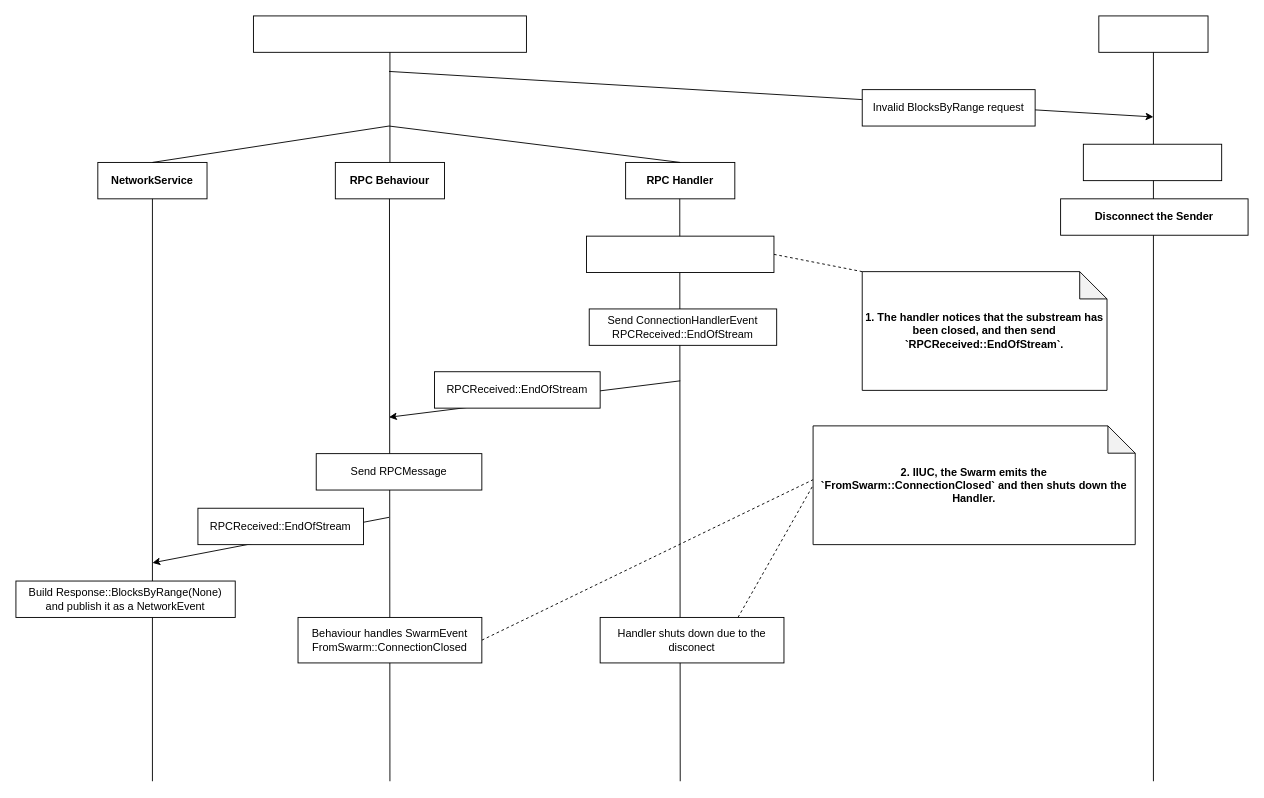
The diagram is 1264 pixels wide and 798 high, and some of its shapes have lost their labels. Each missing label, with the box of its shape:
Bans the Sender: (1082, 143, 1222, 181)
Handler polls the substream and notices that it has been closed.: (586, 235, 774, 273)
Receiver: (1098, 15, 1208, 52)
Sender: (253, 15, 526, 52)
